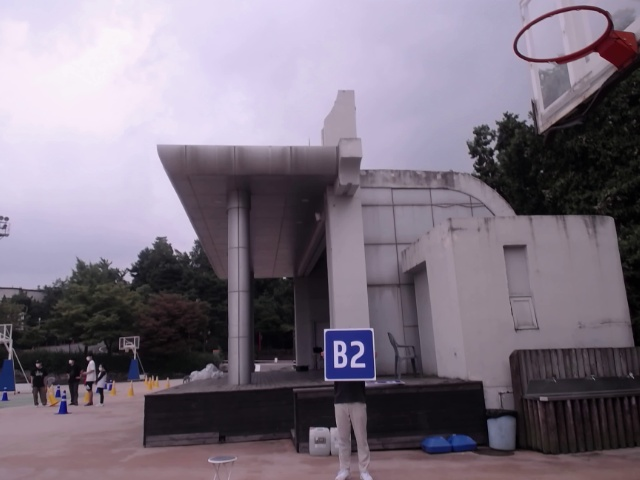delivery_b2: (324, 329, 375, 381)
